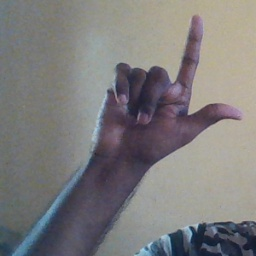L: (93, 14, 244, 158)
